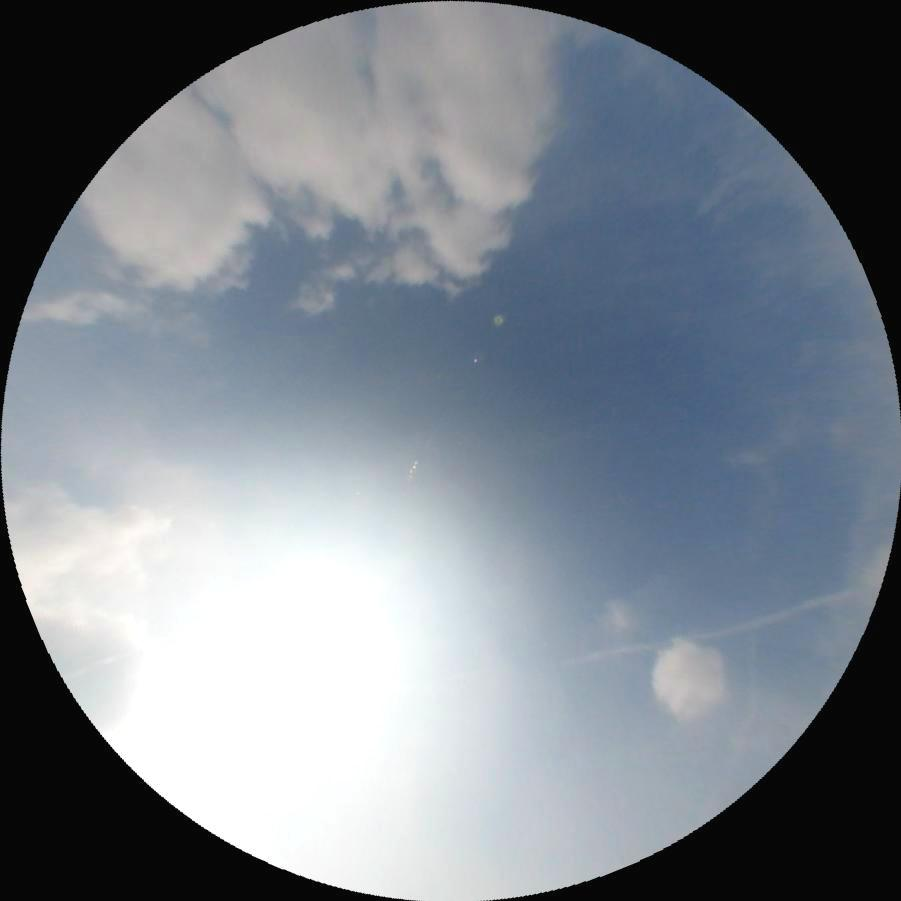contrail old: (556, 589, 849, 677)
sun: (130, 556, 436, 830)
